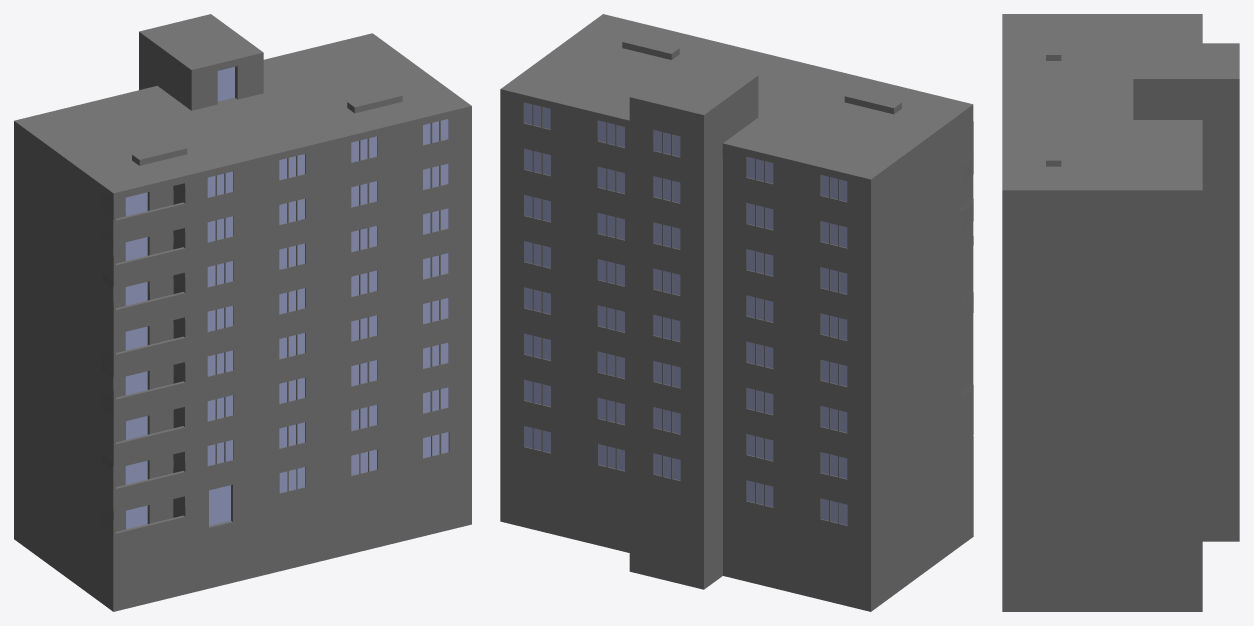
The model's file is BuildingPrefab.glb.
The picture shows the model from 3 angles, left to right: view 1: azimuth 30°, elevation 25°; view 2: azimuth 150°, elevation 25°; view 3: azimuth 270°, elevation 25°; orthographic projection. The views are drawn at different scales.
Parts seen in each view (by area): view 1: Cube; view 2: Cube; view 3: Cube.
Part boxes in pixels (x1,y1,x2,y2): Cube: [14, 14, 471, 611]; Cube: [500, 14, 973, 611]; Cube: [1002, 14, 1239, 611].
Bounding box in the file's own units: 25.01 × 30.6 × 14.22.
